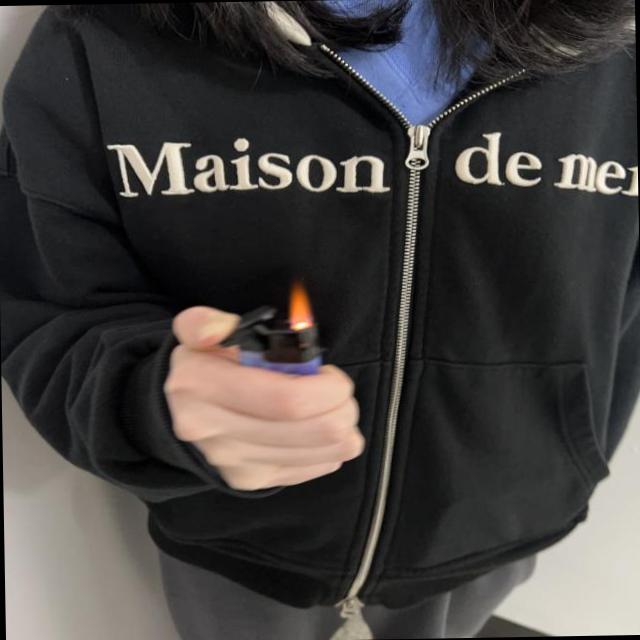Fire: (284, 281, 316, 331)
